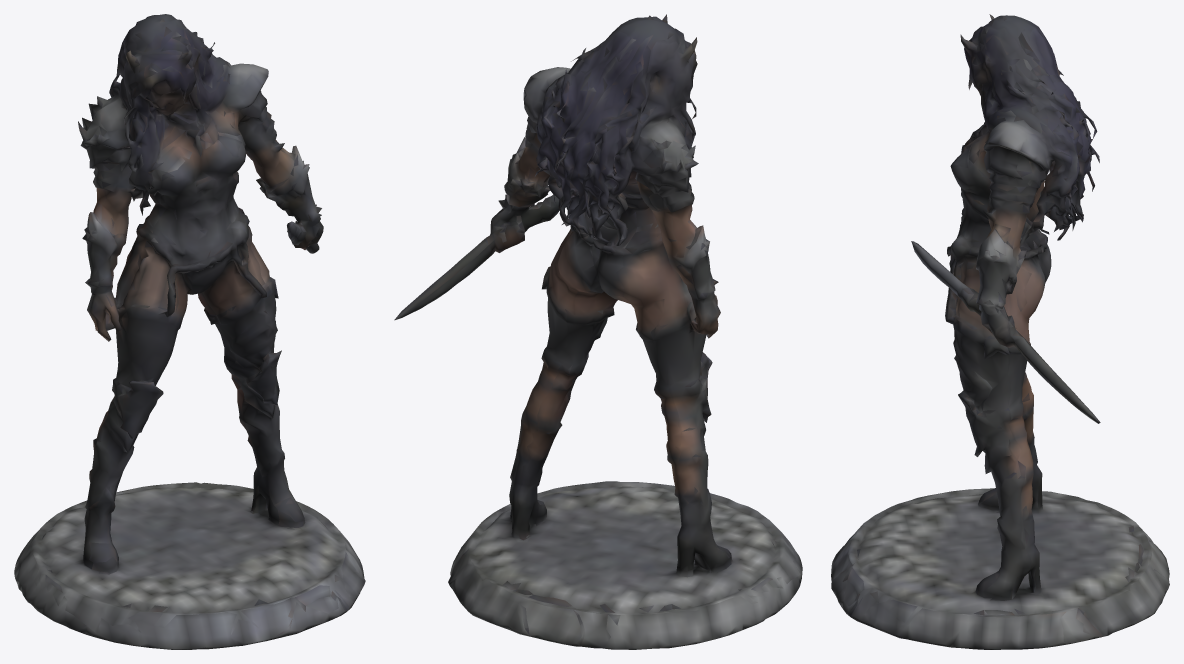
The model's file is Grolsch_final.glb.
3 views of the same model, side by side, from view 1: azimuth 30°, elevation 25°; view 2: azimuth 150°, elevation 25°; view 3: azimuth 270°, elevation 25° (orthographic). The views are drawn at different scales.
Parts seen in each view (by area): view 1: Mesh1.0; view 2: Mesh1.0; view 3: Mesh1.0.
Boxes of the visible parts, x1,y1,x2,y2 form: Mesh1.0: (14, 14, 365, 649); Mesh1.0: (394, 14, 802, 649); Mesh1.0: (831, 14, 1169, 649).
Bounding box in the file's own units: 1.23 × 2 × 1.11.
Materials: 1 (1 with a texture image).
